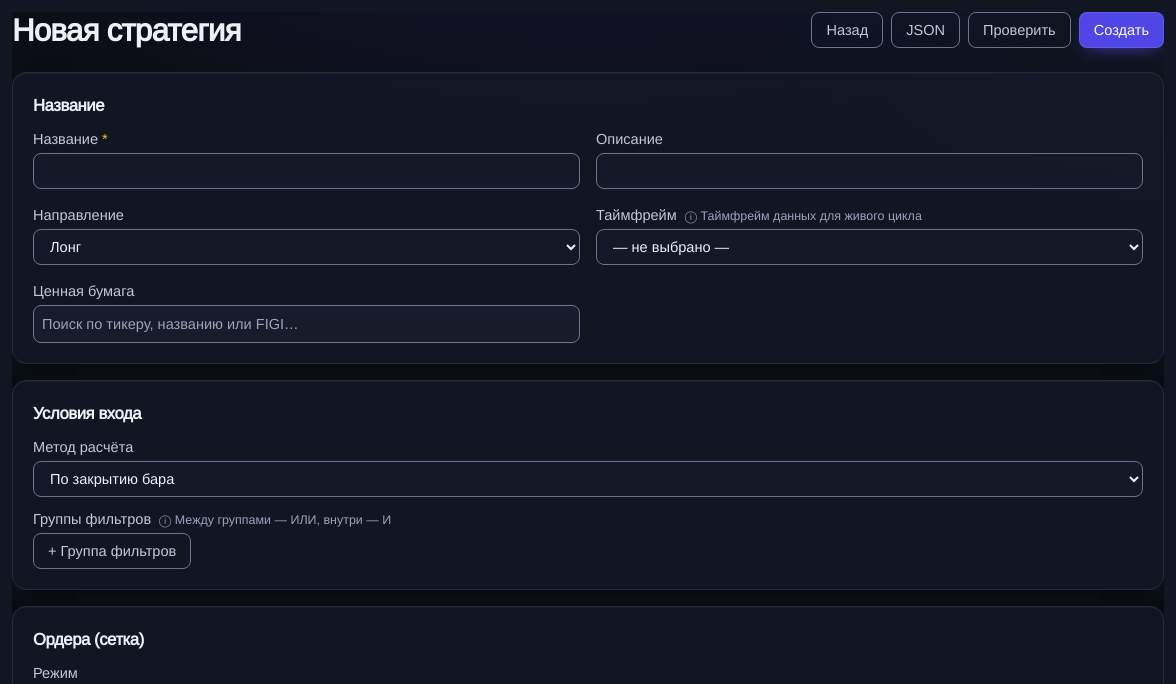
Test: MVP-7.4 U5/U6: кнопка «Проверить» › U6: ошибка «не выбран вид тейк-профита» — у поля «Тейк-профит» и читаемый баннер
Expected: the heading "Новая стратегия" is shown, [12, 12, 241, 48]
Click the button "Проверить".
click(1019, 30)  # box [968, 12, 1071, 48]
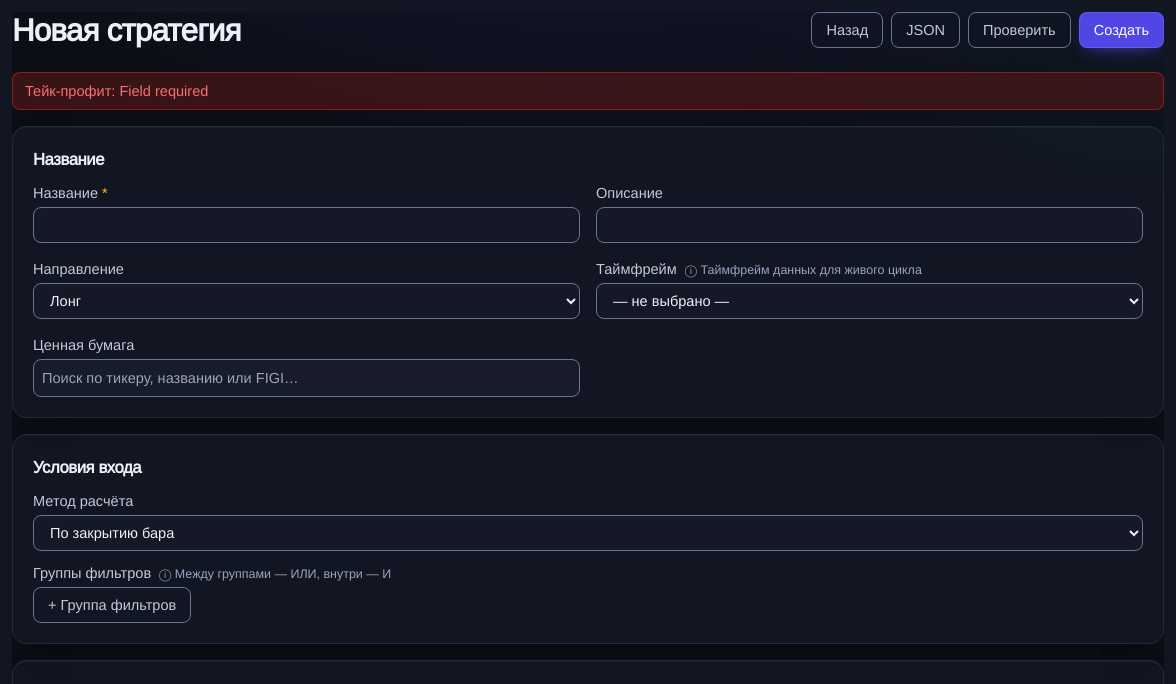
Expected: the text "Тейк-профит: Field required" is shown, [12, 72, 1164, 110]
